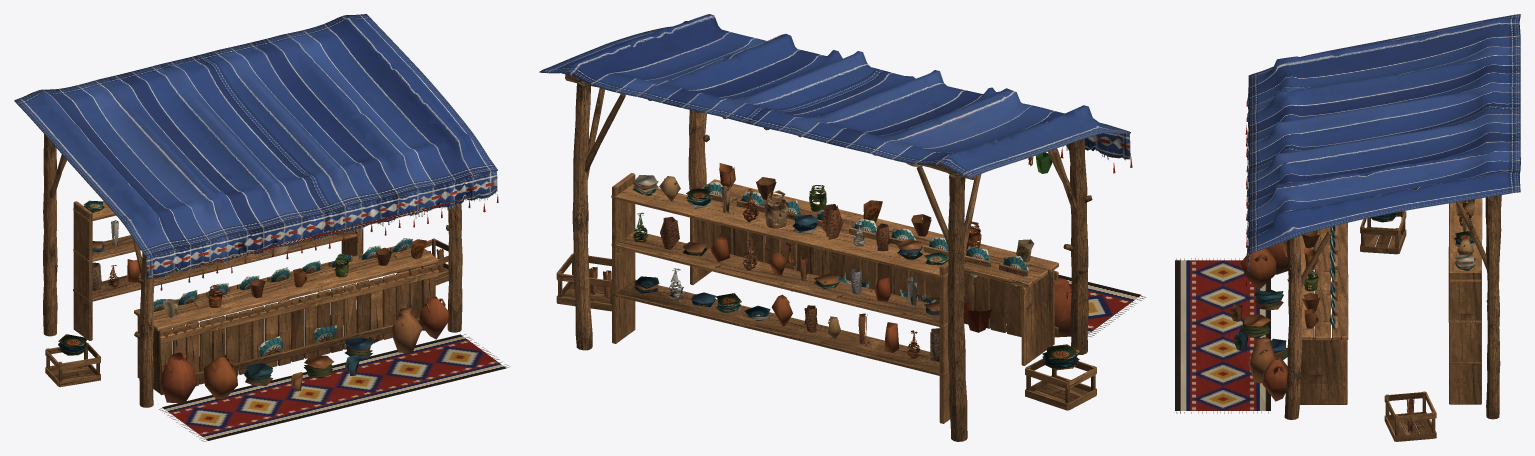
Rendered from village-kiosk-3-v5-lite.glb.
3 renders of one model, left to right at view 1: azimuth 30°, elevation 25°; view 2: azimuth 150°, elevation 25°; view 3: azimuth 270°, elevation 25°, orthographic. The views are drawn at different scales.
Parts seen in each view (by area): view 1: K3_Cloth, K3_Wood, K3_Props, K3_Bark; view 2: K3_Cloth, K3_Wood, K3_Props, K3_Bark; view 3: K3_Cloth, K3_Props, K3_Wood, K3_Bark.
Part boxes in pixels (x1,y1,x2,y2): K3_Cloth: (14,14,497,279); K3_Wood: (45,201,448,394); K3_Props: (58,191,510,441); K3_Bark: (43,66,462,407); K3_Cloth: (539,14,1130,178); K3_Wood: (556,144,1096,423); K3_Props: (573,77,1145,370); K3_Bark: (565,74,1093,441); K3_Cloth: (1247,14,1520,273); K3_Props: (1175,97,1476,434); K3_Wood: (1300,198,1482,441); K3_Bark: (1284,191,1501,419).
Bounding box in the file's own units: 5.43 × 2.95 × 3.78.
4 materials, 4 textured.
